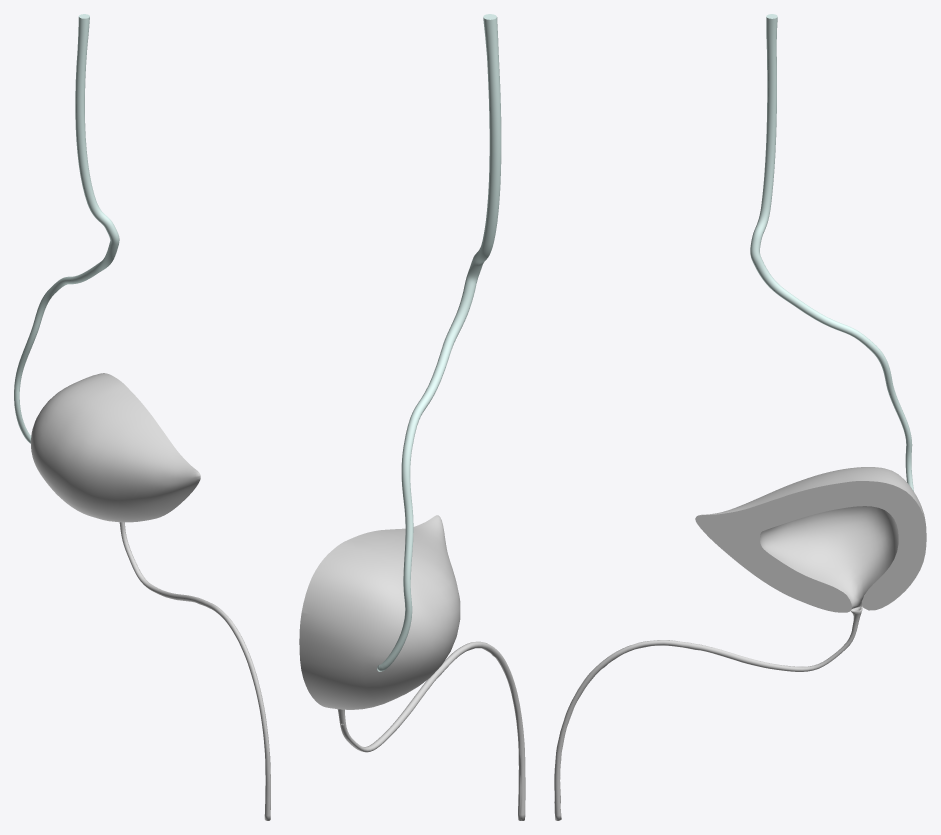
Rendered from open3d-inguinal-canal-urinary-01.glb.
The picture shows the model from 3 angles, left to right: view 1: azimuth 30°, elevation 25°; view 2: azimuth 150°, elevation 25°; view 3: azimuth 270°, elevation 25°; orthographic projection. The views are drawn at different scales.
Parts seen in each view (by area): view 1: O3D_749df0a3c493bf, O3D_f6b842606c3175, O3D_5bd77eb299b3e2; view 2: O3D_749df0a3c493bf, O3D_f6b842606c3175, O3D_5bd77eb299b3e2; view 3: O3D_749df0a3c493bf, O3D_f6b842606c3175, O3D_5bd77eb299b3e2.
Part boxes in pixels (<box>): O3D_749df0a3c493bf: <box>30,373,200,522</box>; O3D_f6b842606c3175: <box>14,14,119,443</box>; O3D_5bd77eb299b3e2: <box>119,522,270,820</box>; O3D_749df0a3c493bf: <box>299,515,460,709</box>; O3D_f6b842606c3175: <box>377,14,501,671</box>; O3D_5bd77eb299b3e2: <box>337,641,525,820</box>; O3D_749df0a3c493bf: <box>695,467,926,612</box>; O3D_f6b842606c3175: <box>750,14,913,491</box>; O3D_5bd77eb299b3e2: <box>554,606,862,820</box>.
Bounding box in the file's own units: 0.0385 × 0.2961 × 0.1308.
